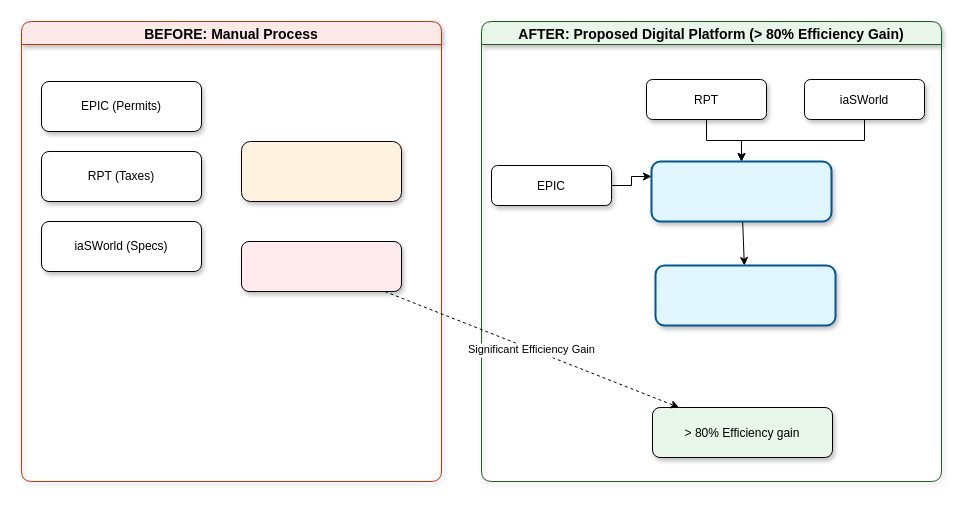
Image size: 965x506. Some labels were removed from this diagram. Here are the shapes that lost their labels. From the top down, the centre of each, then its label:
point (322, 172): Error Prone Manual work
point (742, 192): Validation Engine
point (322, 267): Time Consuming switching between Apps
point (746, 296): Compliance Dashboard
